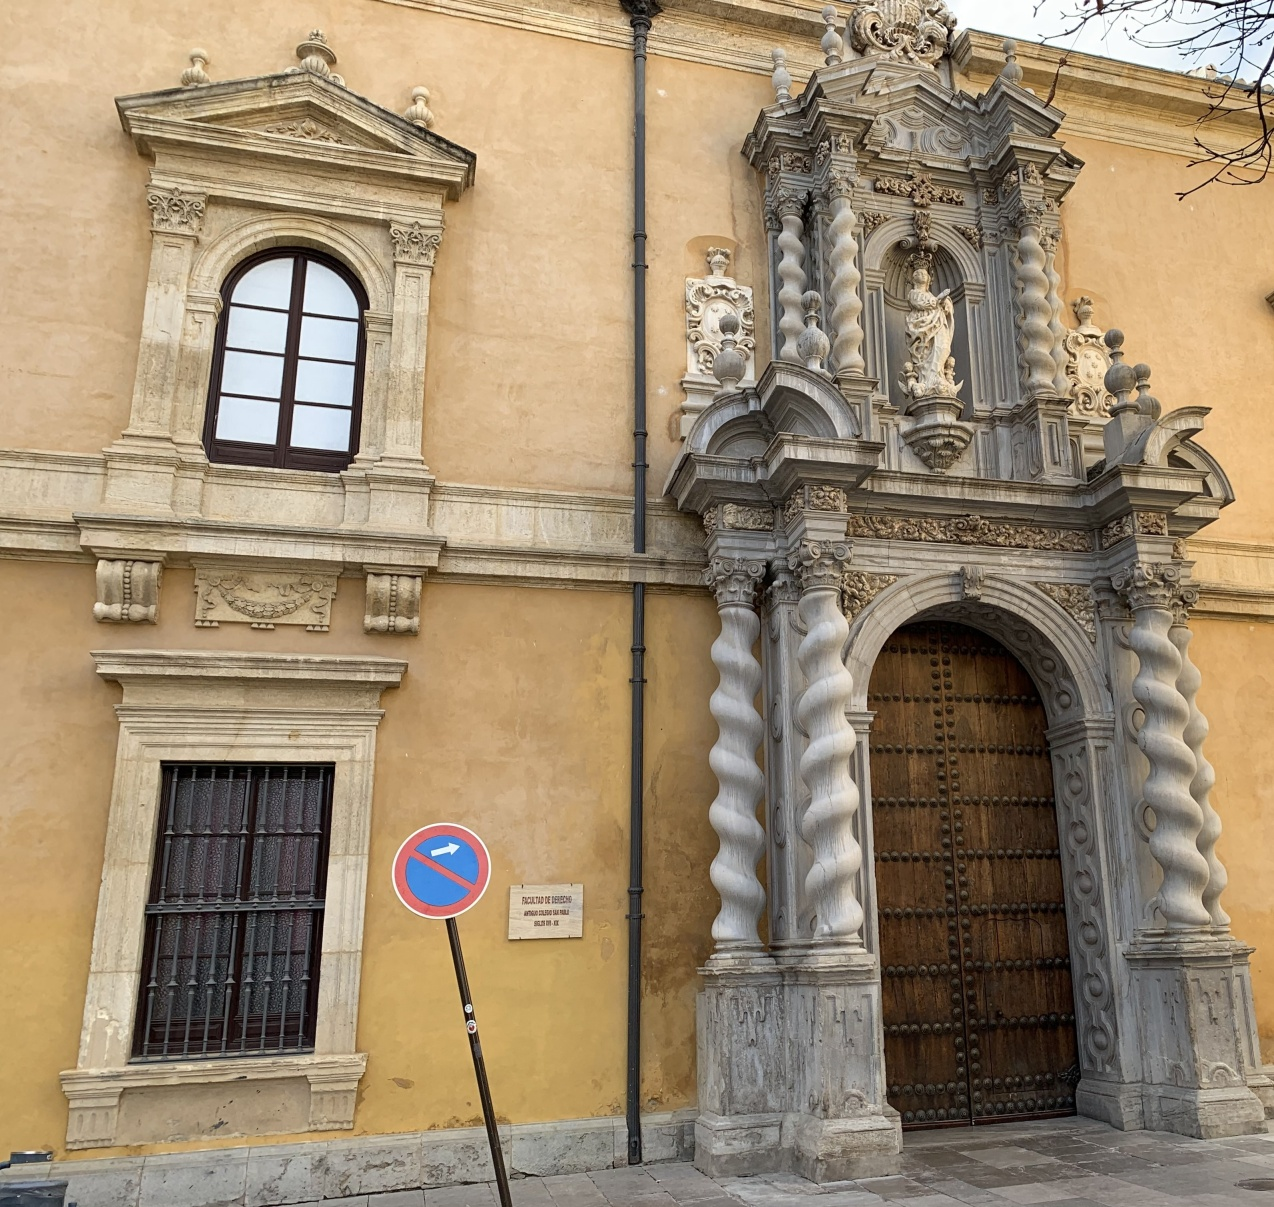arco-medio-punto: (855, 576, 1103, 749), (201, 220, 390, 332)
columna-salomonica: (1117, 621, 1239, 937), (788, 585, 877, 960), (702, 594, 781, 967), (818, 192, 874, 382), (771, 201, 825, 369), (1016, 227, 1068, 400)
fronton: (113, 64, 483, 186)
vano-adintelado: (87, 700, 377, 1084)
